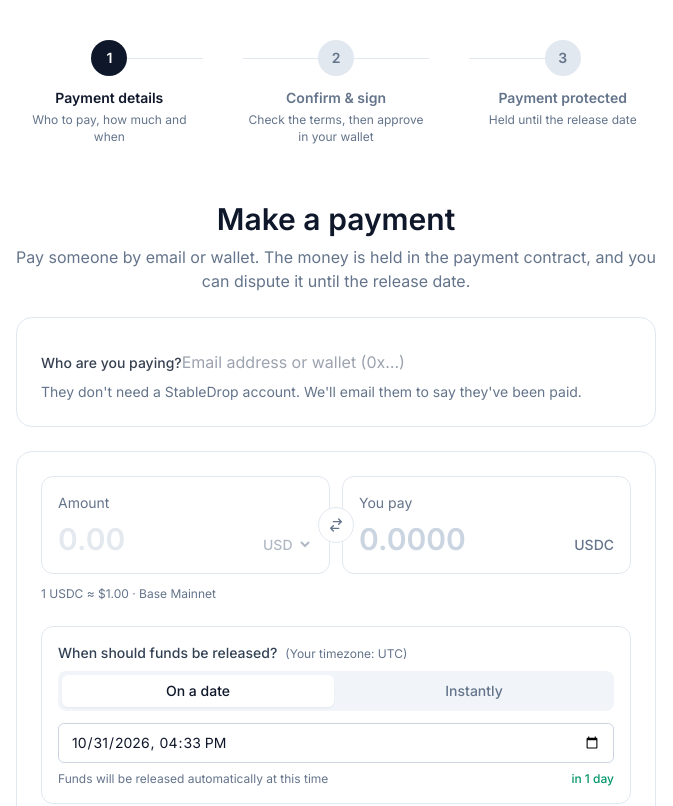
Scenario: /pay › records the partner a payment is made under, alongside the terms, not as one of them
Step 1. Type "seller@example.com" into the field with placeholder "Email address or wallet (0x…)" → x=299, y=362, box [182,350,416,374]
(page scrolled)
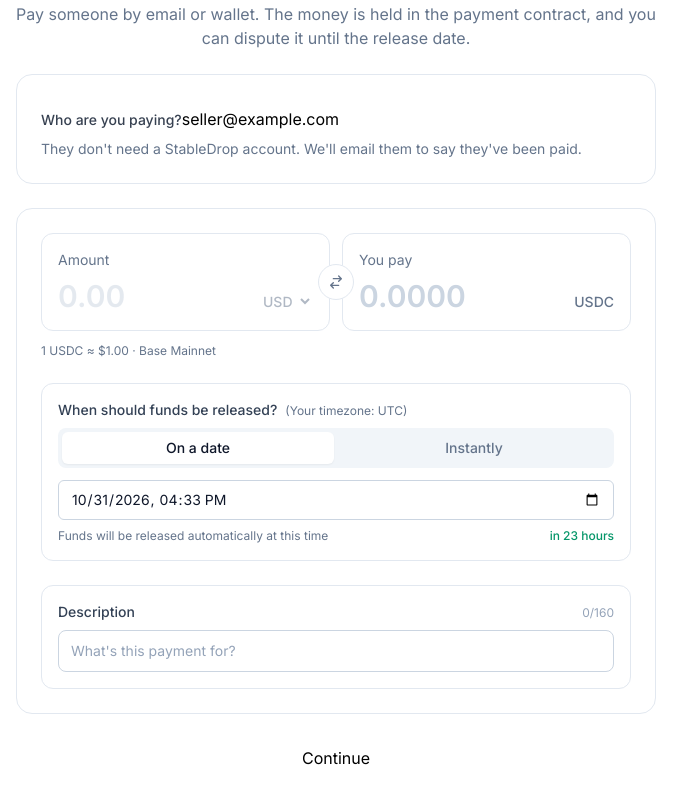
Step 2. Type "Logo design" into the field with placeholder "What's this payment for?" → x=336, y=651, box [58,630,614,672]
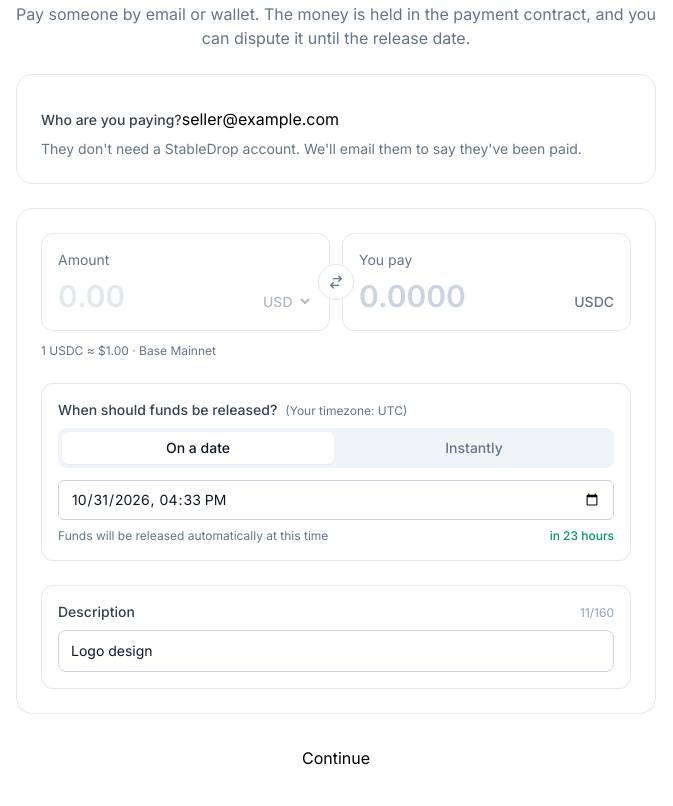
Step 3. Type "10" into the number field with placeholder "0.0000" → x=463, y=296, box [359,278,566,314]
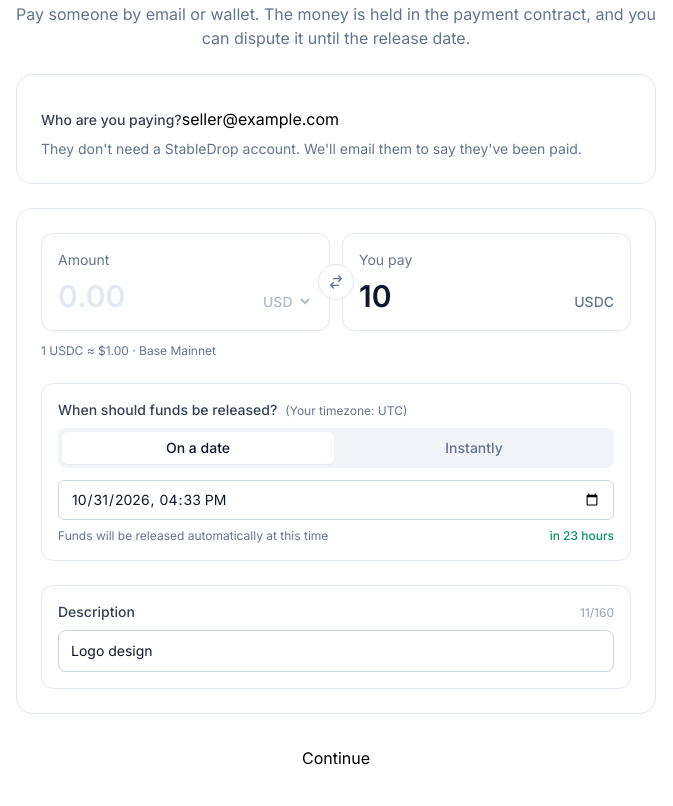
Step 4. Click the button "Continue" → x=336, y=758, box [302,746,370,770]
(page scrolled)
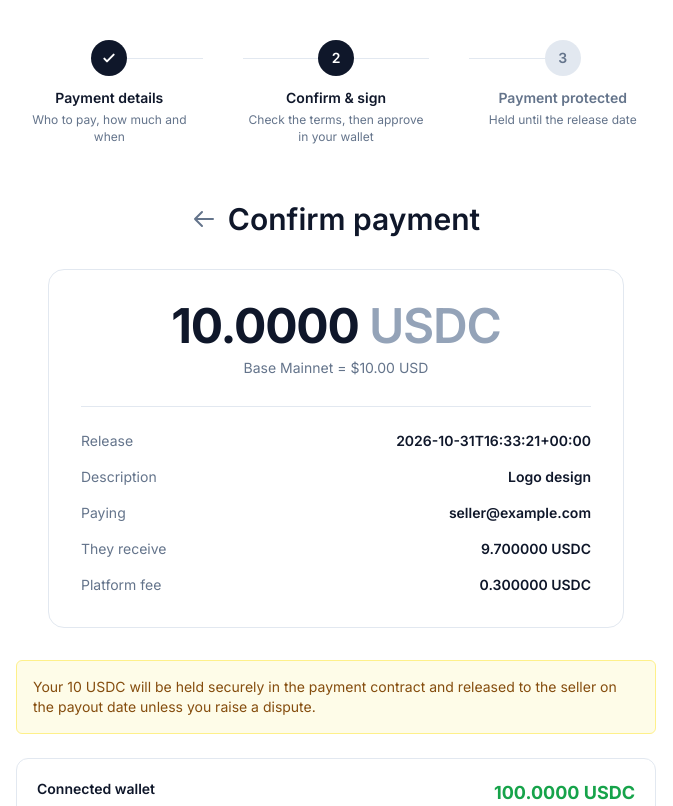
Result: the heading "Confirm payment" is shown at [228,201,480,237]
